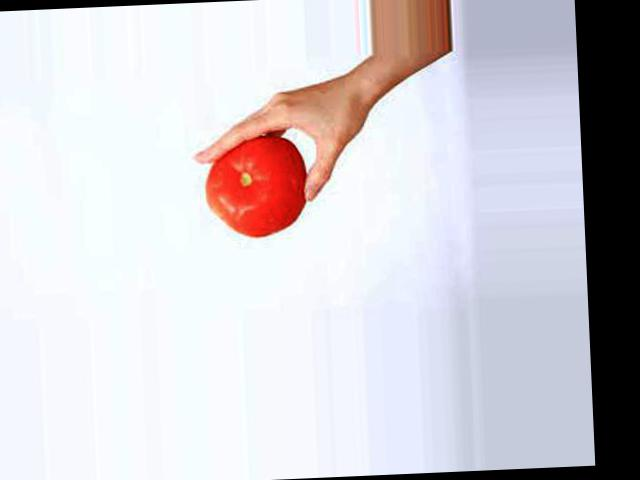tomato: (203, 136, 308, 239)
